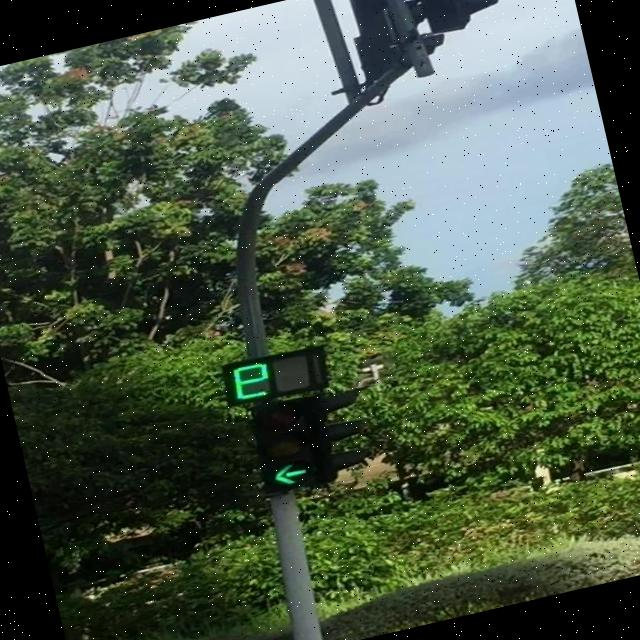green_light: (249, 396, 318, 495)
